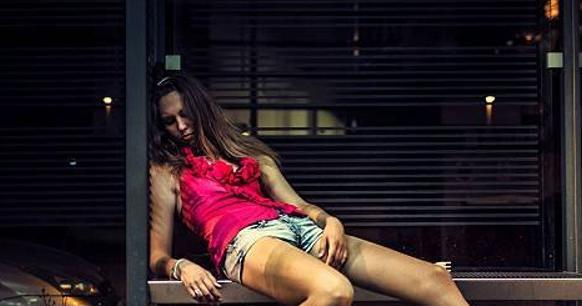Drunk: (156, 92, 197, 141)
